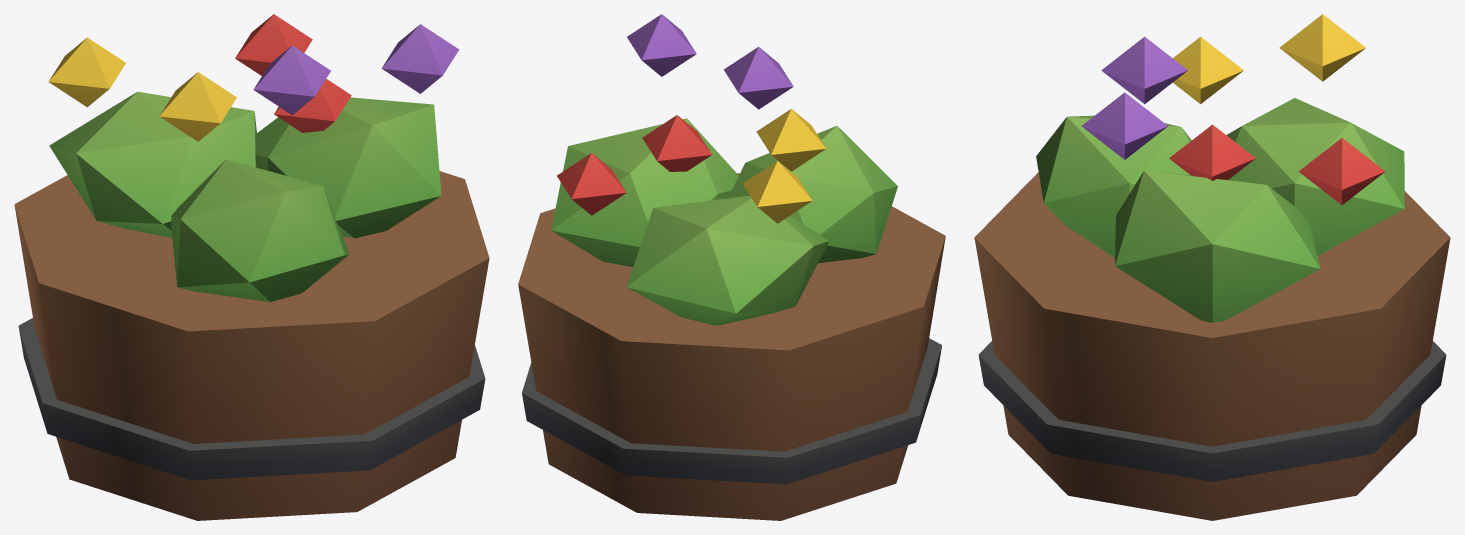
Rendered from planter.glb.
3 views of the same model, side by side, from view 1: azimuth 30°, elevation 25°; view 2: azimuth 150°, elevation 25°; view 3: azimuth 270°, elevation 25° (orthographic). The views are drawn at different scales.
Parts seen in each view (by area): view 1: planter; view 2: planter; view 3: planter.
Boxes of the visible parts, <box> form: planter: <box>14,14,489,520</box>; planter: <box>518,14,945,520</box>; planter: <box>974,14,1450,520</box>.
Bounding box in the file's own units: 3.5 × 3.25 × 3.5.
Materials: 1 (1 with a texture image).
